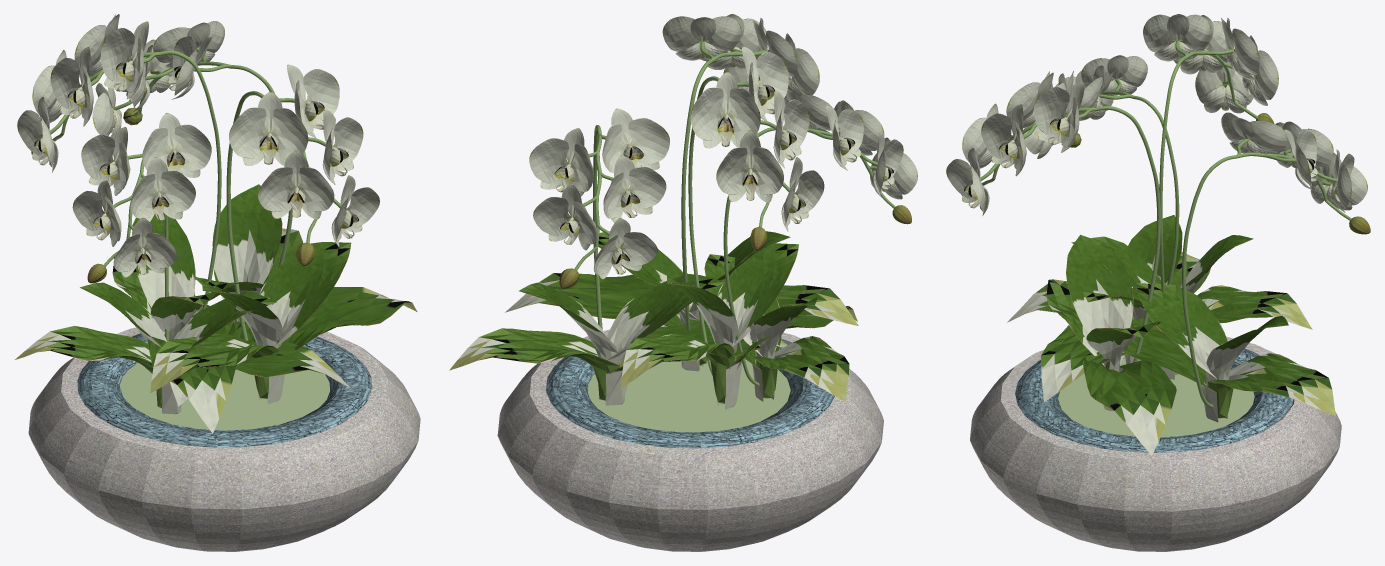
File: conc_flower_pot.glb
The picture shows the model from 3 angles, left to right: view 1: azimuth 30°, elevation 25°; view 2: azimuth 150°, elevation 25°; view 3: azimuth 270°, elevation 25°; orthographic projection. The views are drawn at different scales.
Parts seen in each view (by area): view 1: mesh_2_ROOT__Component_4762__Conjunto_de_Vasos_Atacama_Layer, mesh_19_ROOT__Component_4762__Component_4761__Agrupar#6__orq, mesh_11_ROOT__Component_4762__Component_4761__Agrupar#6__ske, mesh_15_ROOT__Component_4762__Component_4761__Agrupar#6__ske, mesh_7_ROOT__Component_4762__Component_4761__Agrupar#6__ske7, mesh_4_ROOT__Component_4762__Component_4761__Agrupar#6__skeE, mesh_21_ROOT__Component_4762__Component_4761__Agrupar#6__Agr, mesh_13_ROOT__Component_4762__Component_4761__Agrupar#6__ske, mesh_17_ROOT__Component_4762__Component_4761__Agrupar#6__orq, mesh_5_ROOT__Component_4762__Component_4761__Agrupar#6__ske7, mesh_9_ROOT__Component_4762__Component_4761__Agrupar#6__ske7; view 2: mesh_2_ROOT__Component_4762__Conjunto_de_Vasos_Atacama_Layer, mesh_7_ROOT__Component_4762__Component_4761__Agrupar#6__ske7, mesh_15_ROOT__Component_4762__Component_4761__Agrupar#6__ske, mesh_19_ROOT__Component_4762__Component_4761__Agrupar#6__orq, mesh_11_ROOT__Component_4762__Component_4761__Agrupar#6__ske, mesh_21_ROOT__Component_4762__Component_4761__Agrupar#6__Agr, mesh_4_ROOT__Component_4762__Component_4761__Agrupar#6__skeE, mesh_17_ROOT__Component_4762__Component_4761__Agrupar#6__orq, mesh_5_ROOT__Component_4762__Component_4761__Agrupar#6__ske7, mesh_13_ROOT__Component_4762__Component_4761__Agrupar#6__ske, mesh_9_ROOT__Component_4762__Component_4761__Agrupar#6__ske7; view 3: mesh_2_ROOT__Component_4762__Conjunto_de_Vasos_Atacama_Layer, mesh_19_ROOT__Component_4762__Component_4761__Agrupar#6__orq, mesh_7_ROOT__Component_4762__Component_4761__Agrupar#6__ske7, mesh_15_ROOT__Component_4762__Component_4761__Agrupar#6__ske, mesh_11_ROOT__Component_4762__Component_4761__Agrupar#6__ske, mesh_4_ROOT__Component_4762__Component_4761__Agrupar#6__skeE, mesh_21_ROOT__Component_4762__Component_4761__Agrupar#6__Agr, mesh_5_ROOT__Component_4762__Component_4761__Agrupar#6__ske7, mesh_17_ROOT__Component_4762__Component_4761__Agrupar#6__orq, mesh_13_ROOT__Component_4762__Component_4761__Agrupar#6__ske, mesh_9_ROOT__Component_4762__Component_4761__Agrupar#6__ske7.
Boxes of the visible parts, left/top/right/bottom form: mesh_2_ROOT__Component_4762__Conjunto_de_Vasos_Atacama_Layer: left=28, top=327, right=420, bottom=551; mesh_19_ROOT__Component_4762__Component_4761__Agrupar#6__orq: left=150, top=64, right=417, bottom=404; mesh_11_ROOT__Component_4762__Component_4761__Agrupar#6__ske: left=15, top=113, right=350, bottom=414; mesh_15_ROOT__Component_4762__Component_4761__Agrupar#6__ske: left=17, top=14, right=236, bottom=433; mesh_7_ROOT__Component_4762__Component_4761__Agrupar#6__ske7: left=92, top=21, right=302, bottom=406; mesh_4_ROOT__Component_4762__Component_4761__Agrupar#6__skeE: left=77, top=334, right=372, bottom=447; mesh_21_ROOT__Component_4762__Component_4761__Agrupar#6__Agr: left=119, top=363, right=329, bottom=430; mesh_13_ROOT__Component_4762__Component_4761__Agrupar#6__ske: left=49, top=50, right=221, bottom=308; mesh_17_ROOT__Component_4762__Component_4761__Agrupar#6__orq: left=226, top=91, right=341, bottom=340; mesh_5_ROOT__Component_4762__Component_4761__Agrupar#6__ske7: left=113, top=47, right=292, bottom=267; mesh_9_ROOT__Component_4762__Component_4761__Agrupar#6__ske7: left=104, top=149, right=172, bottom=340; mesh_2_ROOT__Component_4762__Conjunto_de_Vasos_Atacama_Layer: left=497, top=325, right=883, bottom=551; mesh_7_ROOT__Component_4762__Component_4761__Agrupar#6__ske7: left=449, top=108, right=787, bottom=405; mesh_15_ROOT__Component_4762__Component_4761__Agrupar#6__ske: left=620, top=46, right=857, bottom=409; mesh_19_ROOT__Component_4762__Component_4761__Agrupar#6__orq: left=505, top=14, right=858, bottom=371; mesh_11_ROOT__Component_4762__Component_4761__Agrupar#6__ske: left=690, top=86, right=917, bottom=401; mesh_21_ROOT__Component_4762__Component_4761__Agrupar#6__Agr: left=588, top=359, right=790, bottom=432; mesh_4_ROOT__Component_4762__Component_4761__Agrupar#6__skeE: left=546, top=327, right=834, bottom=448; mesh_17_ROOT__Component_4762__Component_4761__Agrupar#6__orq: left=681, top=41, right=767, bottom=330; mesh_5_ROOT__Component_4762__Component_4761__Agrupar#6__ske7: left=569, top=125, right=627, bottom=329; mesh_13_ROOT__Component_4762__Component_4761__Agrupar#6__ske: left=688, top=76, right=789, bottom=375; mesh_9_ROOT__Component_4762__Component_4761__Agrupar#6__ske7: left=723, top=125, right=895, bottom=386; mesh_2_ROOT__Component_4762__Conjunto_de_Vasos_Atacama_Layer: left=970, top=336, right=1341, bottom=551; mesh_19_ROOT__Component_4762__Component_4761__Agrupar#6__orq: left=946, top=71, right=1176, bottom=455; mesh_7_ROOT__Component_4762__Component_4761__Agrupar#6__ske7: left=1123, top=112, right=1370, bottom=422; mesh_15_ROOT__Component_4762__Component_4761__Agrupar#6__ske: left=1007, top=14, right=1312, bottom=379; mesh_11_ROOT__Component_4762__Component_4761__Agrupar#6__ske: left=1023, top=55, right=1210, bottom=402; mesh_4_ROOT__Component_4762__Component_4761__Agrupar#6__skeE: left=1015, top=349, right=1293, bottom=452; mesh_21_ROOT__Component_4762__Component_4761__Agrupar#6__Agr: left=1058, top=358, right=1254, bottom=437; mesh_5_ROOT__Component_4762__Component_4761__Agrupar#6__ske7: left=1182, top=139, right=1351, bottom=408; mesh_17_ROOT__Component_4762__Component_4761__Agrupar#6__orq: left=980, top=106, right=1160, bottom=362; mesh_13_ROOT__Component_4762__Component_4761__Agrupar#6__ske: left=1159, top=40, right=1258, bottom=336; mesh_9_ROOT__Component_4762__Component_4761__Agrupar#6__ske7: left=1099, top=79, right=1179, bottom=284.
Bounding box in the file's own units: 589 × 779 × 611.
8 materials, 3 textured.
